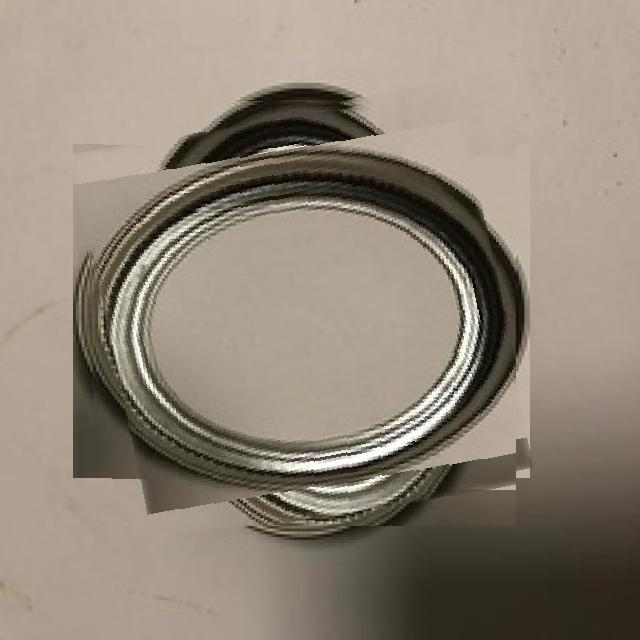recyclable: (86, 96, 516, 526)
